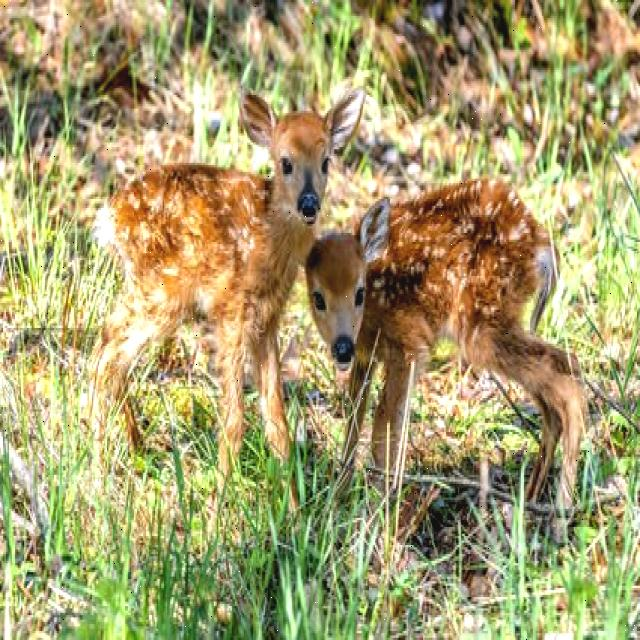deer: (311, 158, 585, 422), (125, 83, 342, 329)
